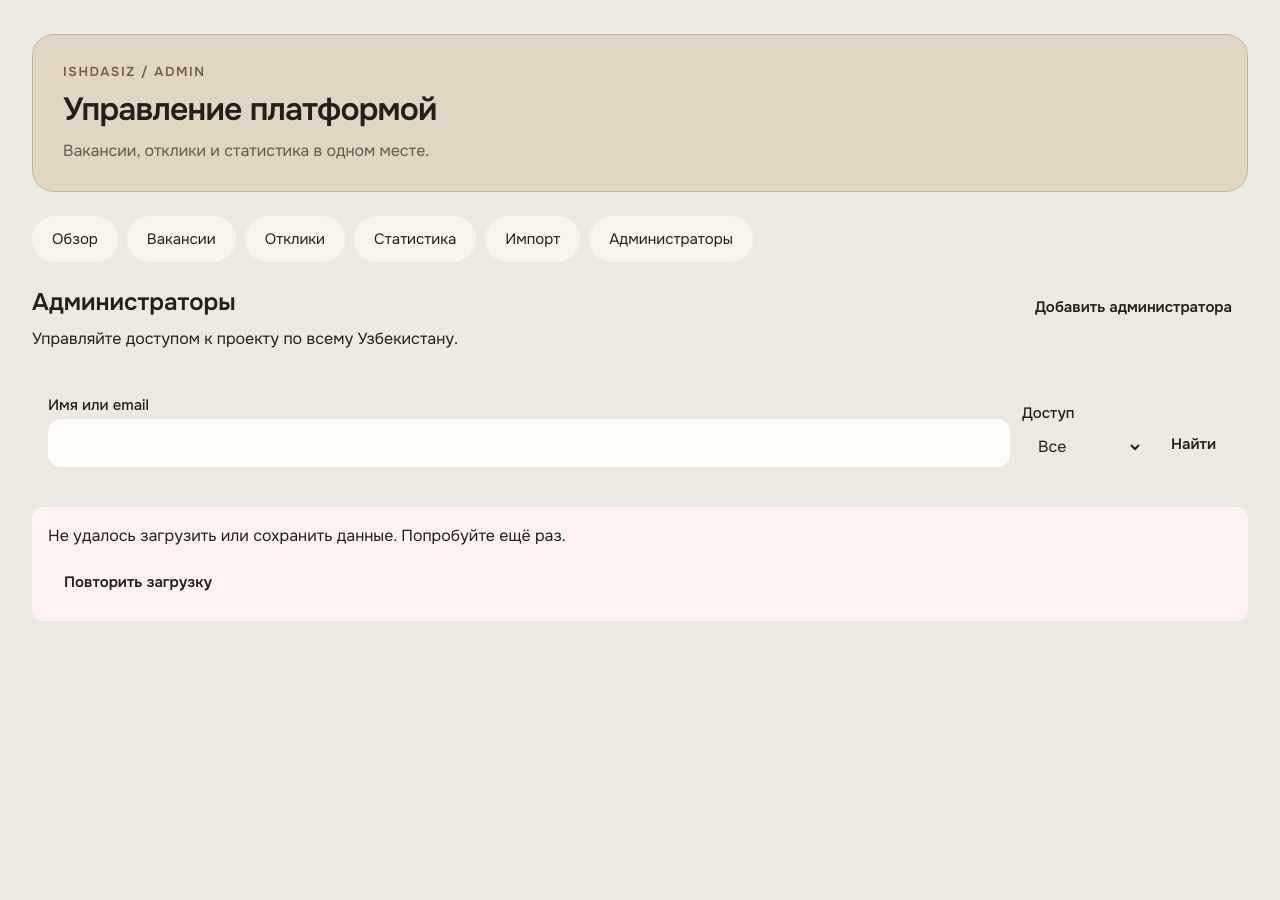
Test: outages remain visible with retry and do not fabricate an empty list
Expected: the message is shown, top-left (32, 507), bottom-right (1248, 621)
Click the button "Повторить загрузку" at [138, 583], box top-left (48, 561), bottom-right (228, 605)
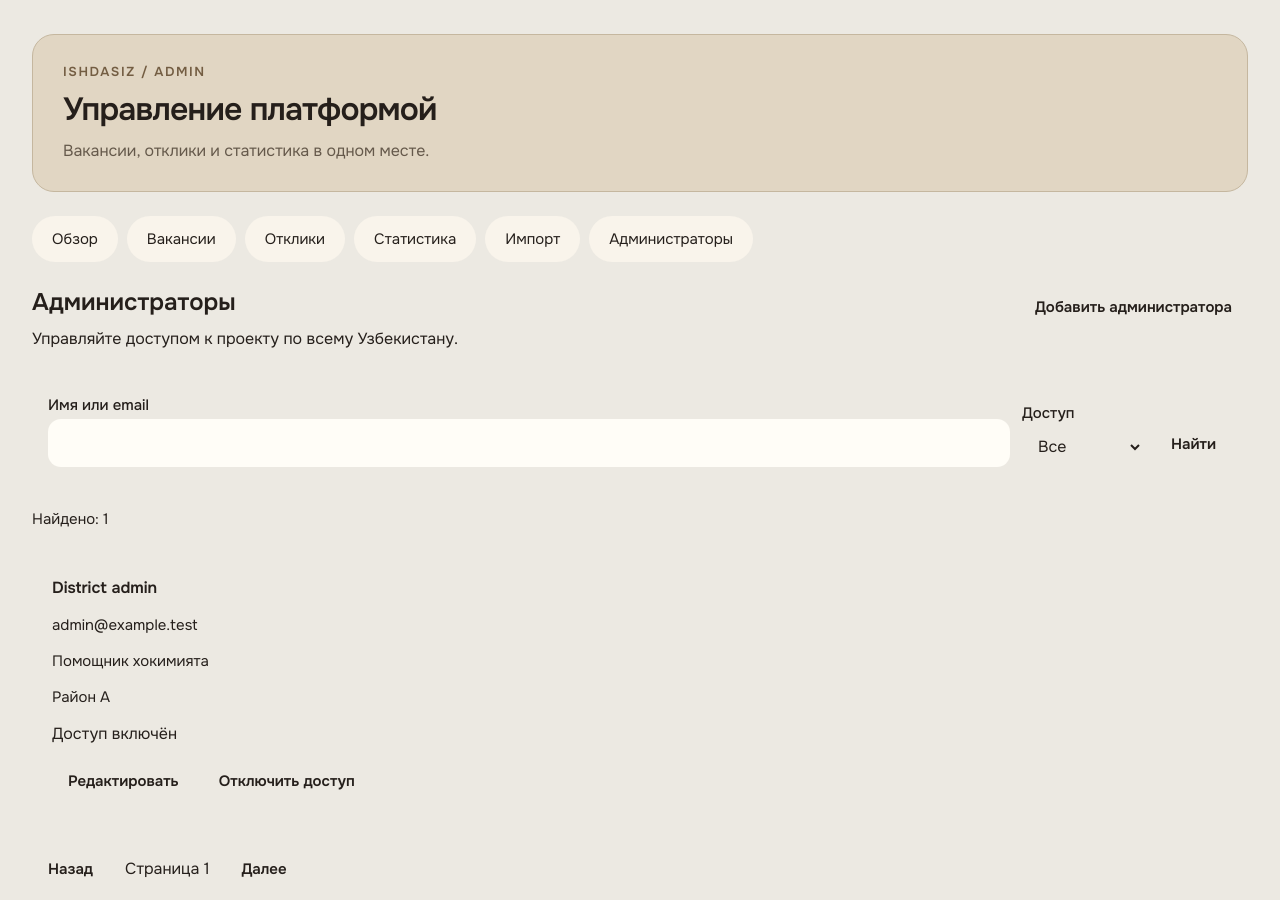
Now the heading "District admin" is shown, box top-left (52, 577), bottom-right (157, 598)
